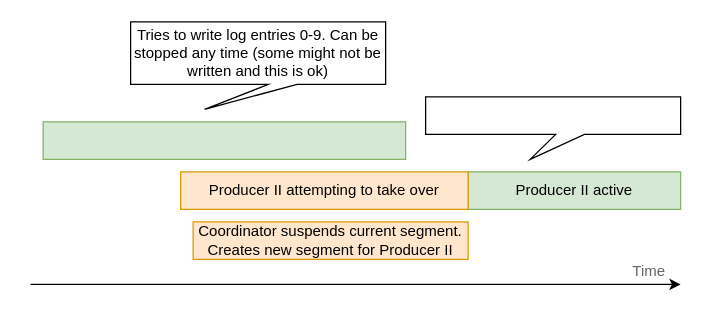
Some shapes in this 713 by 316 pixel diagram are drawn without their labels. The centre of each missing label's shape, as x and y in pixels:
"Producer I active" belongs at point 224,140.
"Writes all log entries from 10-19" belongs at point 552,127.
